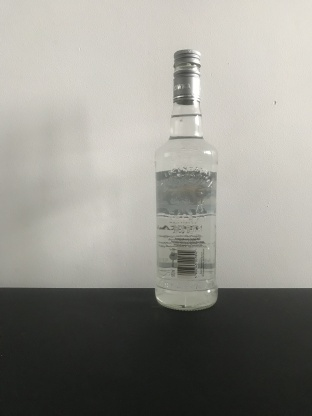nakretka: (171, 48, 202, 106)
